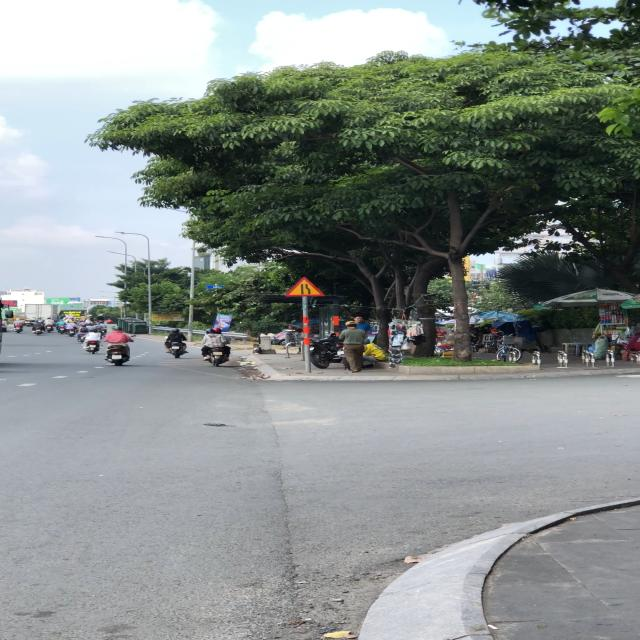Bien bao duong bi thu hep: (280, 276, 326, 298)
